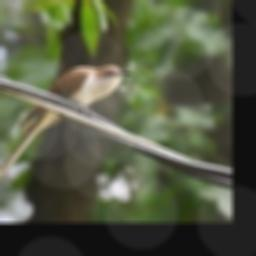Cuckoo: (0, 63, 134, 187)
